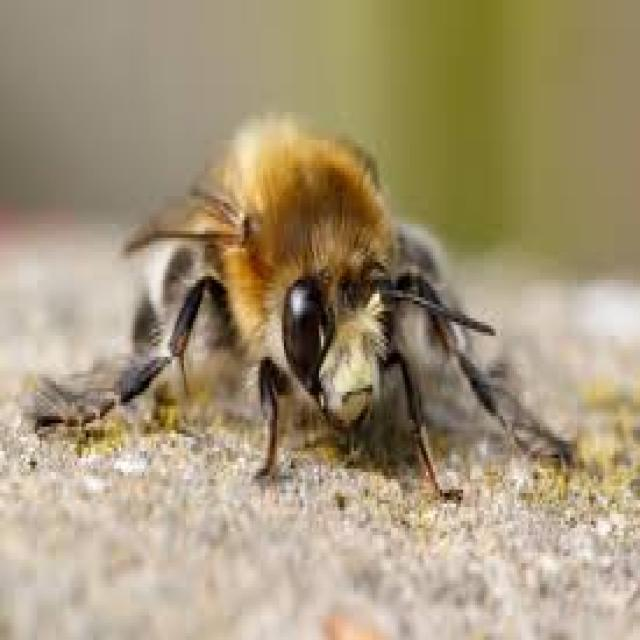Bees: (32, 109, 580, 508)
